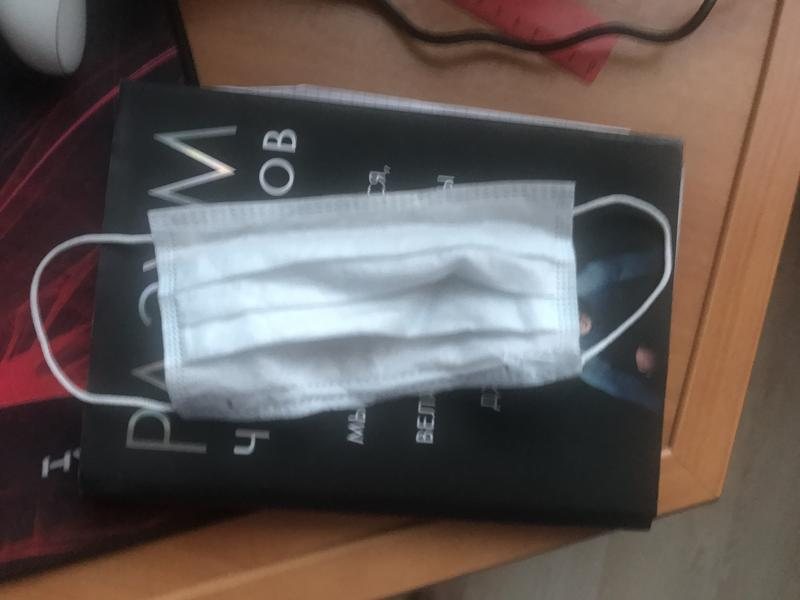medical_mask: (30, 177, 675, 416)
